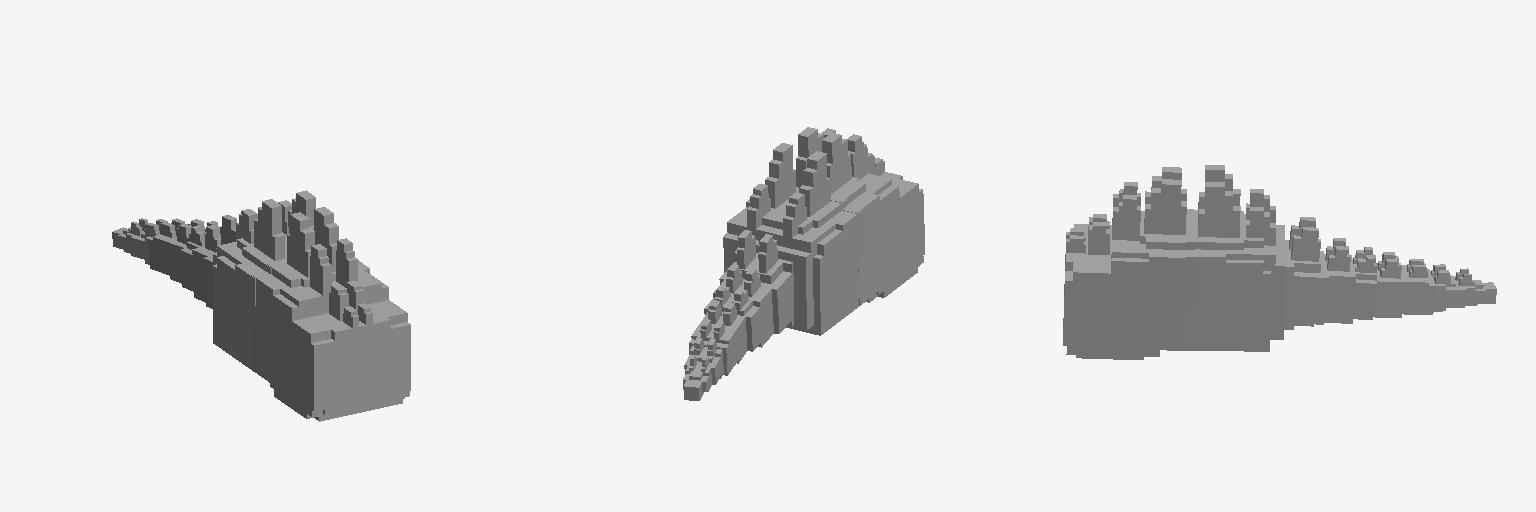
The picture shows the model from 3 angles: view 1: azimuth 30°, elevation 25°; view 2: azimuth 150°, elevation 25°; view 3: azimuth 270°, elevation 25°; orthographic projection.
Parts seen in each view (by area): view 1: Model; view 2: Model; view 3: Model.
Part boxes in pixels (left/top/right/bottom): Model: left=112, top=190, right=410, bottom=421; Model: left=683, top=127, right=924, bottom=400; Model: left=1063, top=165, right=1496, bottom=359.
Bounding box in the file's own units: 57.61 × 90.59 × 218.
Materials: 1 (1 with a texture image).